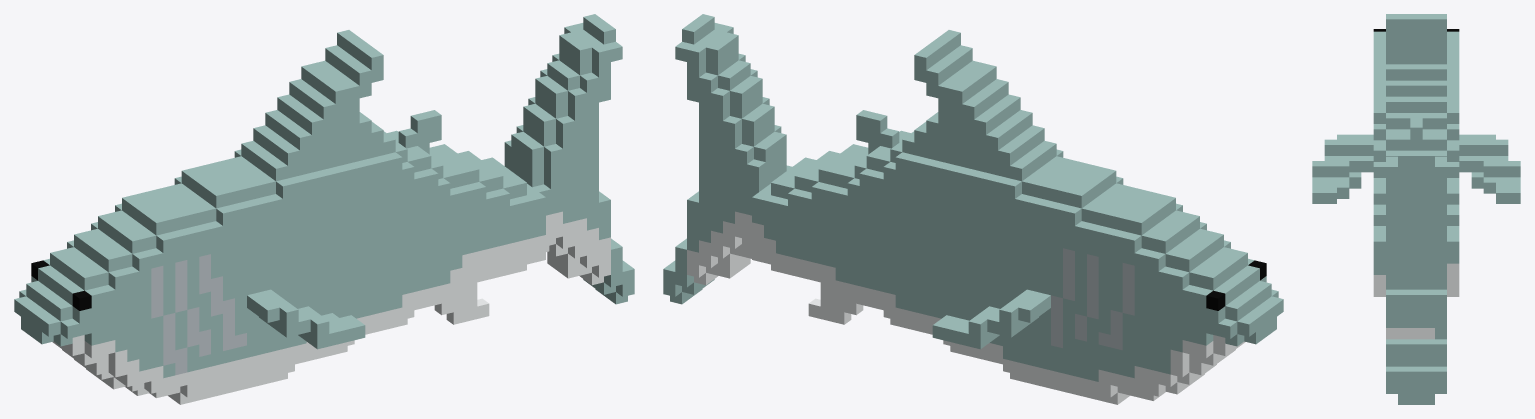
The model's file is Tiburon.fbx.
The picture shows the model from 3 angles, left to right: view 1: azimuth 30°, elevation 25°; view 2: azimuth 150°, elevation 25°; view 3: azimuth 270°, elevation 25°; orthographic projection. The views are drawn at different scales.
Parts seen in each view (by area): view 1: tiburon_49x25x17; view 2: tiburon_49x25x17; view 3: tiburon_49x25x17.
Part boxes in pixels (x1,y1,x2,y2): tiburon_49x25x17: (14, 14, 634, 404); tiburon_49x25x17: (663, 14, 1283, 404); tiburon_49x25x17: (1312, 14, 1520, 404).
Bounding box in the file's own units: 1021 × 521 × 354.
